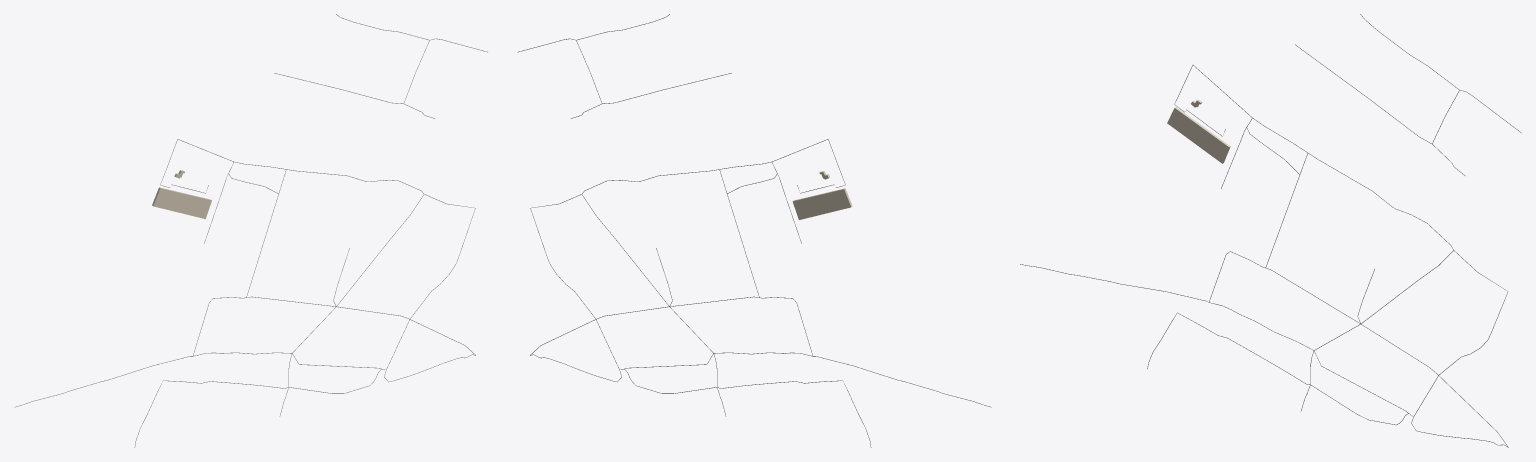
File: historic-palestine-07_28_3490_3222.glb
3 renders of one model, left to right at view 1: azimuth 30°, elevation 25°; view 2: azimuth 150°, elevation 25°; view 3: azimuth 330°, elevation 25°, orthographic. The views are drawn at different scales.
Visible parts, largest first — view 1: Building_; view 2: Building_; view 3: Building_.
Part boxes in pixels (x1,y1,x2,y2): Building_: (152, 187, 211, 218); Building_: (792, 188, 852, 219); Building_: (1167, 107, 1230, 163).
Size of the model in its own units: 1515 by 1188 by 8.7.
